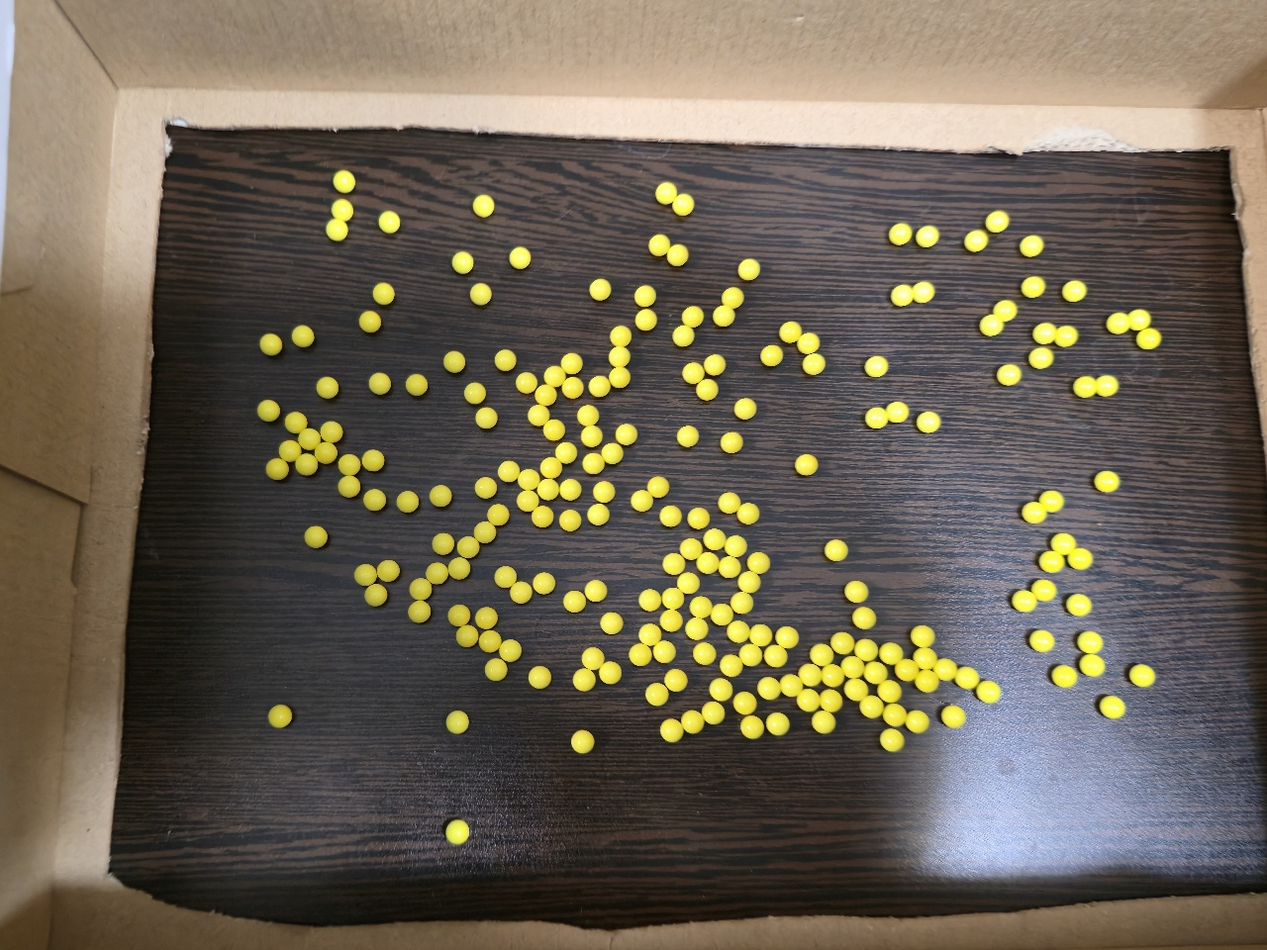yellow_bead: (985, 305, 1013, 331), (1112, 315, 1139, 329), (896, 288, 924, 301), (1134, 669, 1150, 683), (1083, 636, 1099, 649), (1085, 659, 1100, 672), (1072, 599, 1087, 612), (1105, 701, 1121, 713), (1057, 670, 1073, 682), (451, 825, 464, 839), (982, 686, 996, 699), (960, 672, 974, 685), (946, 711, 961, 723), (1035, 635, 1050, 647), (1037, 585, 1052, 597), (1056, 538, 1071, 550), (1079, 381, 1094, 393), (870, 413, 886, 424), (337, 204, 348, 220), (771, 717, 784, 730), (817, 715, 830, 728), (738, 697, 751, 710), (883, 685, 896, 698), (762, 682, 775, 695), (885, 734, 899, 746), (849, 684, 863, 696), (884, 648, 898, 660), (859, 644, 873, 656), (1018, 595, 1032, 607), (1026, 281, 1040, 293), (1099, 380, 1114, 391), (1002, 369, 1017, 380), (665, 725, 678, 737), (912, 715, 924, 728), (865, 701, 878, 713), (802, 694, 814, 707), (650, 689, 663, 701), (578, 674, 591, 686), (869, 667, 882, 679), (769, 650, 782, 662), (815, 649, 828, 661), (698, 648, 711, 660), (835, 637, 848, 649), (731, 625, 744, 637), (690, 622, 703, 634), (850, 586, 863, 598), (709, 533, 722, 545), (922, 417, 936, 428), (1034, 352, 1048, 363), (969, 235, 983, 246), (332, 221, 342, 236), (576, 736, 588, 748), (888, 709, 900, 721), (804, 669, 816, 681), (604, 667, 616, 679), (940, 664, 952, 676), (490, 664, 502, 676), (846, 661, 858, 673), (781, 631, 793, 643), (736, 597, 748, 609), (743, 576, 755, 588), (667, 558, 679, 570), (718, 310, 730, 322), (660, 187, 672, 199), (748, 720, 759, 733), (451, 715, 462, 728), (717, 683, 728, 696), (534, 671, 545, 684), (916, 631, 929, 642), (857, 613, 870, 624), (716, 609, 729, 620), (643, 595, 656, 606), (829, 545, 842, 556), (1046, 496, 1059, 507), (870, 361, 883, 372), (808, 358, 821, 369), (727, 292, 738, 305), (1025, 240, 1038, 251), (894, 228, 907, 239), (1100, 476, 1115, 485), (687, 716, 698, 728), (786, 680, 797, 692), (669, 675, 681, 686), (901, 664, 912, 676), (919, 653, 931, 664), (587, 653, 598, 665), (633, 649, 645, 660), (505, 645, 516, 657), (484, 635, 495, 647), (755, 629, 766, 641), (643, 629, 655, 640), (414, 606, 425, 618), (568, 596, 580, 607), (667, 593, 678, 605), (682, 578, 694, 589), (537, 578, 549, 589), (359, 570, 371, 581), (453, 562, 464, 574), (724, 561, 735, 573), (752, 557, 764, 568), (685, 543, 697, 554), (479, 526, 490, 538), (592, 509, 604, 520), (635, 496, 647, 507), (522, 496, 534, 507), (369, 494, 380, 506), (523, 474, 535, 485), (560, 447, 572, 458), (304, 433, 316, 444), (582, 410, 594, 421), (765, 350, 777, 361), (1038, 328, 1050, 339), (687, 312, 699, 323), (475, 288, 486, 300), (743, 264, 755, 275), (457, 256, 468, 268), (384, 216, 395, 228), (478, 200, 489, 212), (274, 711, 285, 722), (461, 630, 472, 641), (606, 618, 617, 629), (695, 602, 706, 613), (370, 590, 381, 601), (590, 586, 601, 597), (415, 584, 426, 595), (702, 557, 713, 568), (462, 541, 473, 552), (731, 540, 742, 551), (310, 531, 321, 542), (665, 511, 676, 522), (742, 508, 753, 519), (402, 497, 413, 508), (542, 484, 553, 495), (343, 481, 354, 492), (503, 466, 514, 477), (343, 459, 354, 470), (588, 458, 599, 469), (607, 448, 618, 459), (586, 430, 597, 441), (621, 428, 632, 439), (533, 410, 544, 421), (263, 405, 274, 416), (469, 388, 480, 399), (702, 384, 713, 395), (594, 381, 605, 392), (411, 379, 422, 390), (374, 378, 385, 389), (709, 359, 720, 370), (566, 358, 577, 369), (448, 356, 459, 367), (500, 354, 511, 365), (803, 337, 814, 348), (615, 331, 626, 342), (639, 291, 650, 302), (378, 288, 389, 299), (595, 284, 606, 295), (672, 249, 683, 260), (653, 239, 664, 250), (826, 695, 836, 707), (747, 649, 757, 661), (515, 587, 527, 597), (382, 566, 394, 576), (564, 515, 576, 525), (598, 487, 610, 497), (800, 459, 812, 469), (688, 368, 700, 378), (515, 252, 525, 264), (680, 198, 689, 211), (480, 613, 491, 623), (500, 572, 511, 582), (432, 568, 442, 579), (438, 538, 448, 549), (537, 511, 547, 522), (492, 510, 503, 520), (435, 491, 445, 502), (565, 484, 575, 495), (480, 483, 491, 493), (271, 464, 282, 474), (545, 462, 556, 472), (301, 459, 312, 469), (367, 455, 378, 465), (682, 431, 693, 441), (739, 404, 750, 414), (539, 390, 550, 400), (322, 383, 333, 393), (567, 382, 578, 392), (614, 351, 625, 361), (265, 339, 276, 349), (678, 331, 689, 341), (297, 331, 308, 341), (364, 317, 375, 327), (640, 315, 651, 325), (521, 378, 533, 387), (1044, 556, 1057, 564), (453, 610, 463, 620), (693, 513, 703, 523), (724, 498, 734, 508), (652, 482, 662, 492), (284, 446, 294, 456), (726, 437, 736, 447), (548, 425, 558, 435), (481, 413, 491, 423), (614, 372, 624, 382), (549, 371, 559, 381), (1079, 553, 1088, 564), (326, 427, 337, 436), (290, 418, 301, 427), (1067, 286, 1076, 297), (712, 707, 720, 719), (922, 676, 932, 685), (888, 408, 897, 418), (1027, 507, 1035, 518), (663, 646, 670, 658), (828, 670, 837, 679), (1141, 334, 1149, 344), (669, 615, 676, 626), (991, 217, 998, 228), (730, 660, 736, 672), (788, 328, 796, 337), (339, 179, 347, 188), (322, 447, 331, 454), (921, 233, 927, 242), (1061, 338, 1065, 341), (896, 407, 897, 408), (1148, 333, 1149, 334), (1064, 331, 1065, 332), (1075, 285, 1076, 286), (997, 216, 998, 217), (340, 177, 341, 178)
